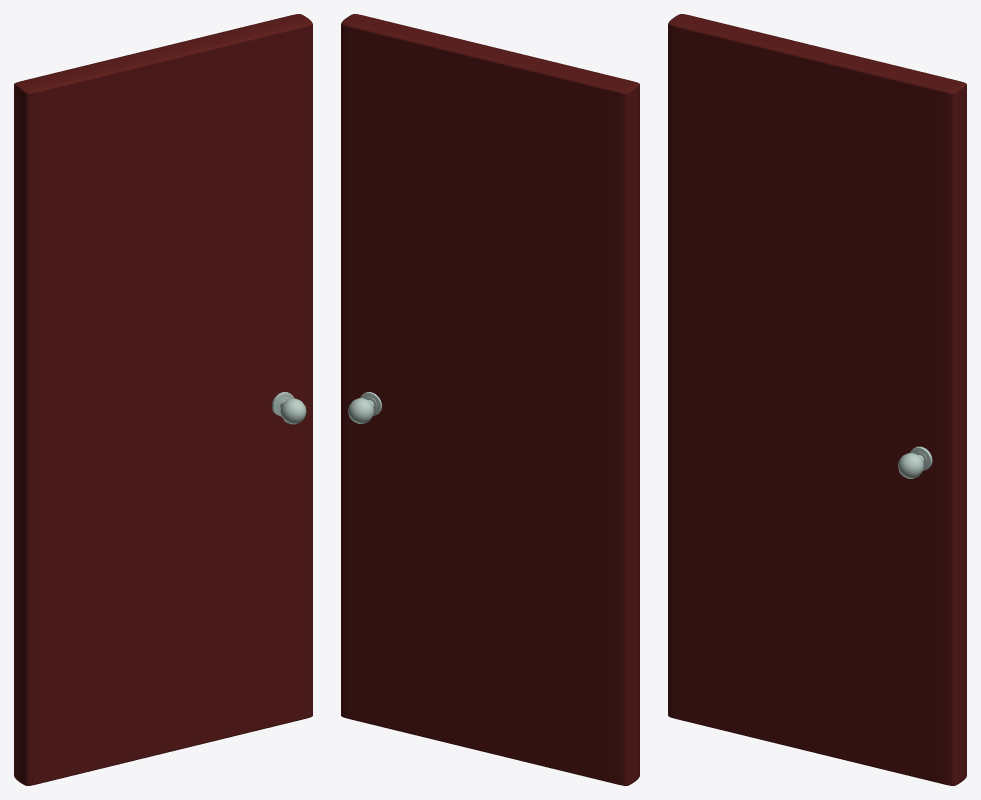
Rendered from Door.FBX.
3 views of the same model, side by side, from view 1: azimuth 30°, elevation 25°; view 2: azimuth 150°, elevation 25°; view 3: azimuth 330°, elevation 25° (orthographic).
Parts seen in each view (by area): view 1: Door; view 2: Door; view 3: Door.
Part boxes in pixels (x1,y1,x2,y2): Door: (14, 14, 312, 785); Door: (341, 14, 639, 785); Door: (668, 14, 966, 785).
Size of the model in its own units: 34.98 by 80.59 by 10.32.
